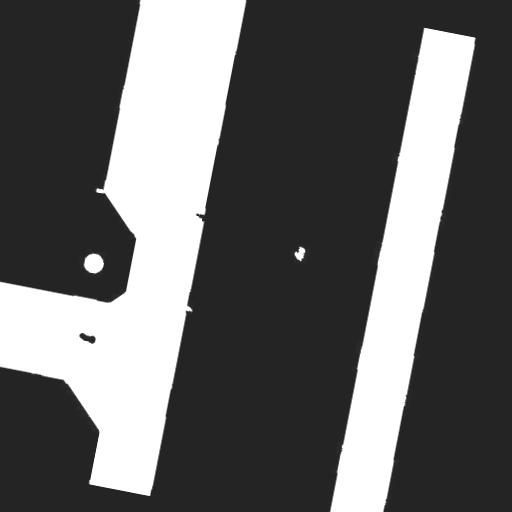copper: (68, 323, 104, 353)
mousebite: (175, 296, 202, 320), (86, 179, 114, 202)
pin-hole: (284, 236, 314, 270)
spur: (186, 204, 218, 232)
